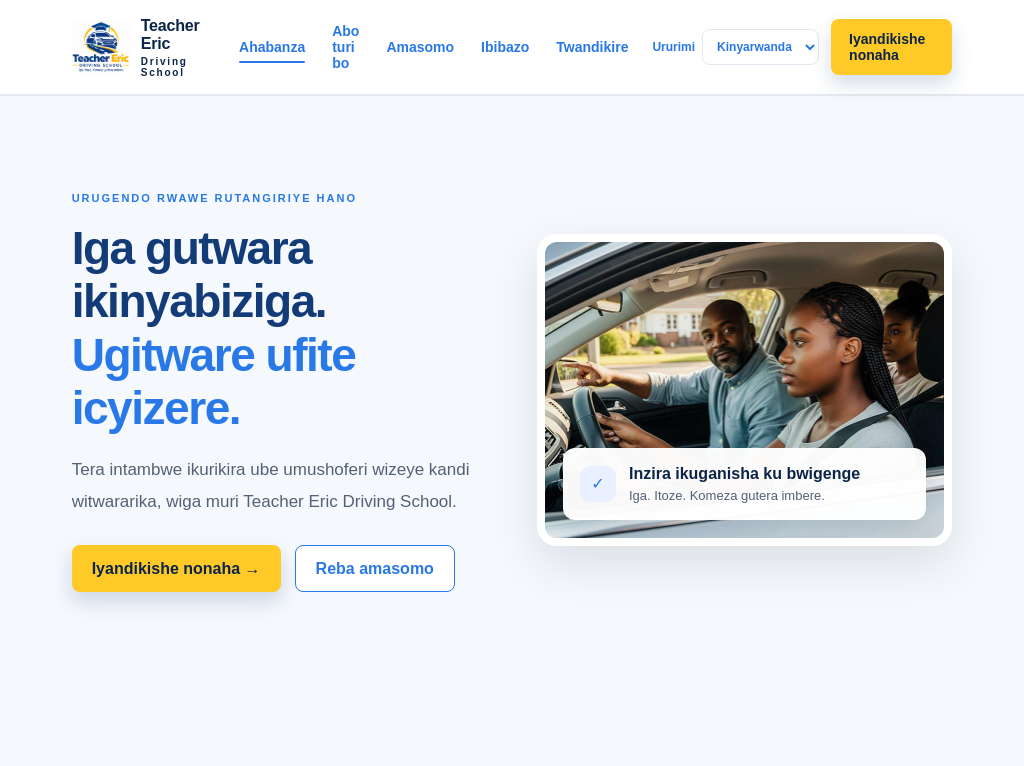
Scenario: public and administrator routes › defaults to Kinyarwanda and switches language without leaving the route
Expected: the heading "Iga gutwara ikinyabiziga.Ugitware ufite icyizere." is shown, x1=72 y1=222 x2=355 y2=434
Expected: the number of links "Iyandikishe nonaha" is 2, x1=831 y1=19 x2=952 y2=75; x1=72 y1=545 x2=281 y2=592
Select "English" in the dropdown labelled "Ururimi": (761, 47) x1=702 y1=29 x2=819 y2=65
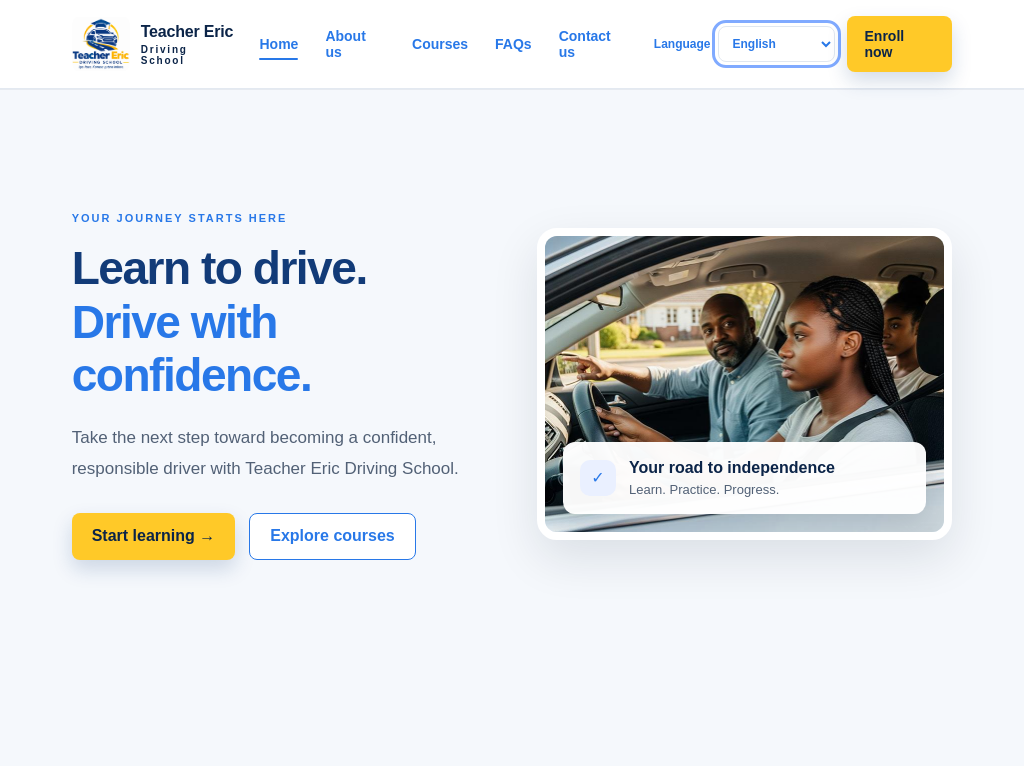
Expected: the heading "Learn to drive.Drive with confidence." is shown, x1=72 y1=242 x2=367 y2=401
